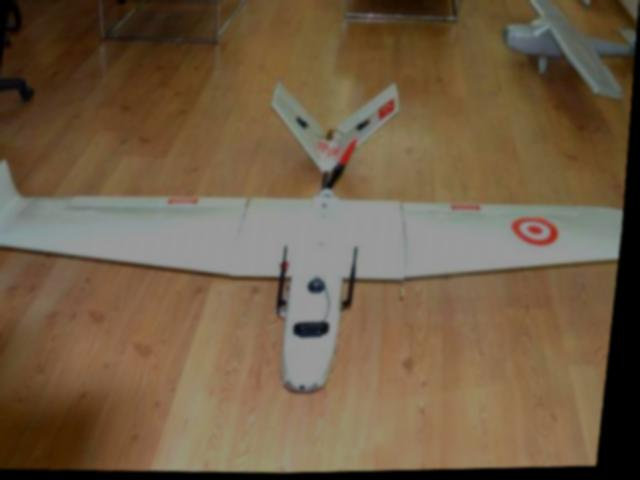iha: (0, 67, 635, 416)
